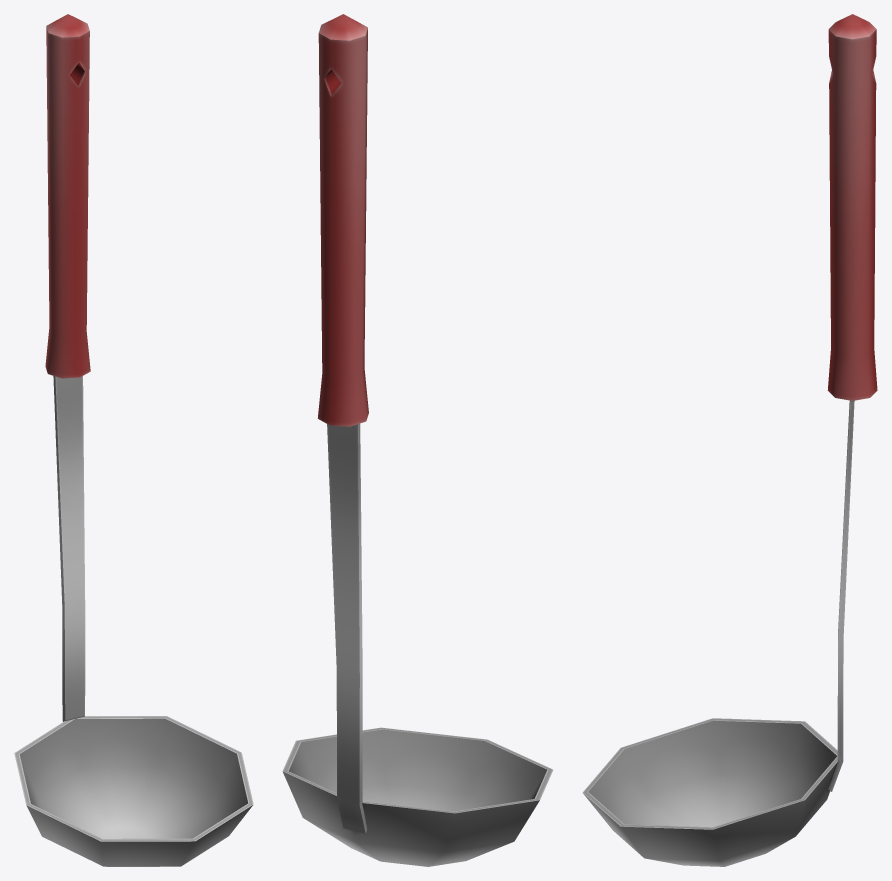
File: KR_Ladle_01_01.fbx
3 views of the same model, side by side, from view 1: azimuth 30°, elevation 25°; view 2: azimuth 150°, elevation 25°; view 3: azimuth 270°, elevation 25° (orthographic). The views are drawn at different scales.
Visible parts, largest first — view 1: kr_ladle_01_01; view 2: kr_ladle_01_01; view 3: kr_ladle_01_01.
Boxes of the visible parts, left/top/right/bottom form: kr_ladle_01_01: left=14, top=14, right=253, bottom=866; kr_ladle_01_01: left=282, top=14, right=552, bottom=866; kr_ladle_01_01: left=582, top=14, right=877, bottom=866.
Bounding box in the file's own units: 8.88 × 31.02 × 9.92.
